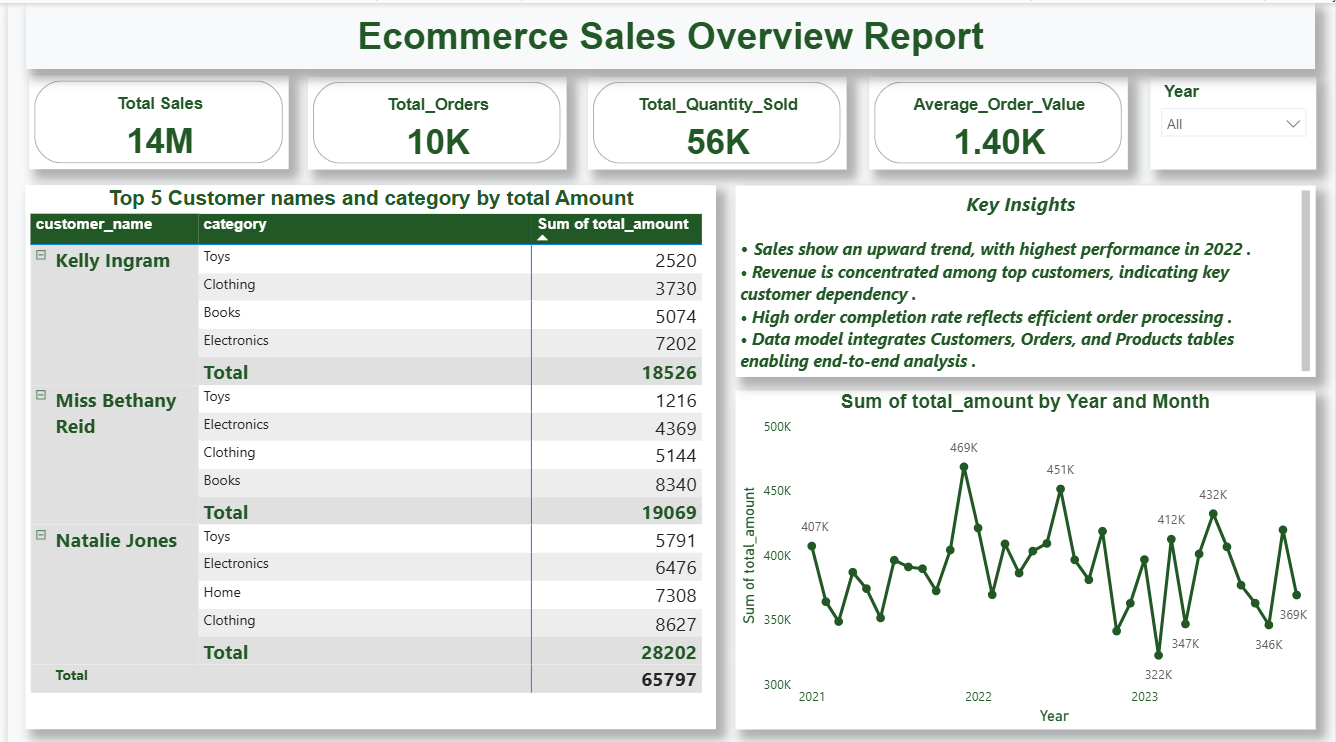

The page's visual inventory and layout, read from the dashboard file:
{"tool":"powerbi","page":{"name":"Page 1","canvas":[1280,720],"ordinal":0},"visuals":[{"type":"cardVisual","fields":{"Data":["Orders.Total_Sales"]},"box":[20,70,250,90],"z":0},{"type":"cardVisual","fields":{"Data":["Orders.Total_Orders"]},"box":[290,70.7,249.6,89.5],"z":1000},{"type":"cardVisual","fields":{"Data":["Orders.Total_Quantity_Sold"]},"box":[559.8,70.7,249.6,89.5],"z":2000},{"type":"cardVisual","fields":{"Data":["Orders.Average_Order_Value"]},"box":[831,70.7,249.6,89.5],"z":3000},{"type":"pivotTable","title":"Top 5 Customer names and category by total Amount","fields":{"Rows":["Customers.customer_name","Products.category"],"Values":["Sum(Orders.total_amount)"]},"box":[17.3,176,666.6,525.2],"z":4000},{"type":"lineChart","fields":{"Category":["Date.Date.Variation.Date Hierarchy.Year","Date.Date.Variation.Date Hierarchy.Month"],"Y":["Sum(Orders.total_amount)"]},"box":[702.6,373.7,559.8,327.5],"z":5000},{"type":"slicer","fields":{"Values":["Date.Year"]},"box":[1102.3,70.7,160.1,89.5],"z":6000},{"type":"shape","box":[17.5,0,1245,63.9],"z":8000},{"type":"textbox","box":[702.6,176,559.8,184.7],"z":8001}]}

Visuals, with their boxes in screenshot pixels (x1, y1, x2, y2), scaled from the page's 1280x720 canvas onto the 1336x742 screenshot:
cardVisual - Orders.Total_Sales: 21 72 282 165
cardVisual - Orders.Total_Orders: 303 73 563 165
cardVisual - Orders.Total_Quantity_Sold: 584 73 845 165
cardVisual - Orders.Average_Order_Value: 867 73 1128 165
"Top 5 Customer names and category by total Amount" pivotTable: 18 181 714 723
lineChart - Date.Date.Variation.Date Hierarchy.Year x Date.Date.Variation.Date Hierarchy.Month: 733 385 1318 723
slicer - Date.Year: 1151 73 1318 165
shape: 18 0 1318 66
textbox: 733 181 1318 372
